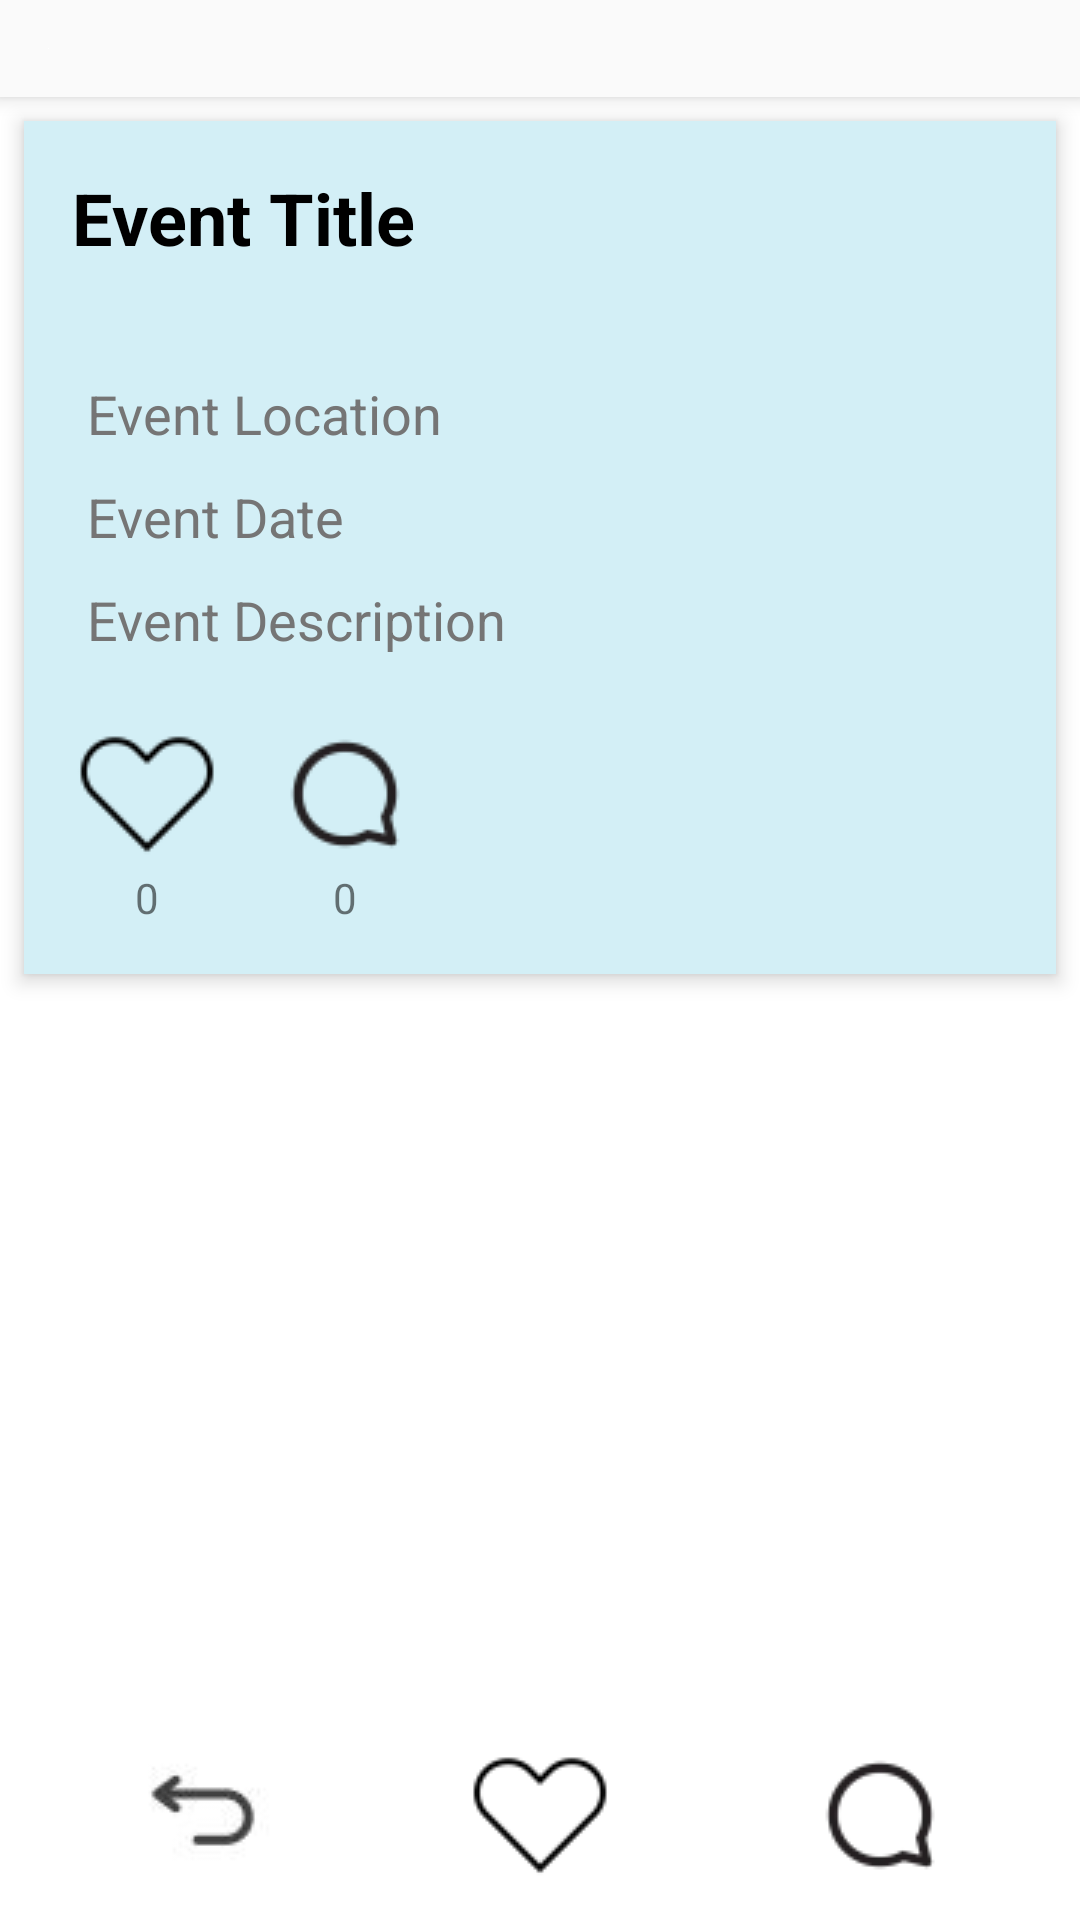

Where icons sit on this 1080px x 1920px app screen, as (x1, y1, x2, y2):
Back: (151, 1775, 255, 1846)
comment: (291, 740, 398, 847), (826, 1761, 934, 1869)
